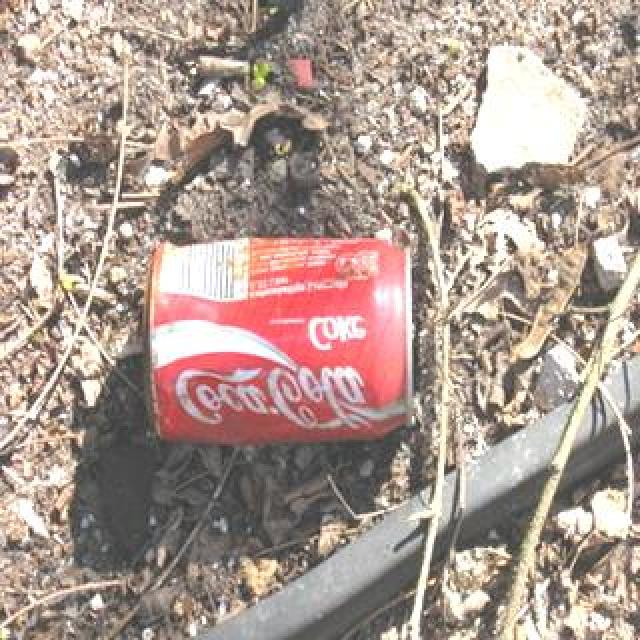Can: (133, 232, 427, 462)
